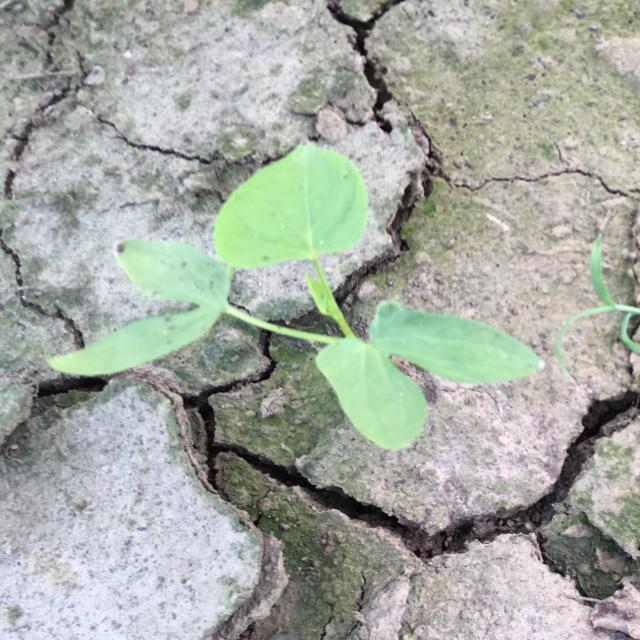MorningGlory: (49, 139, 544, 451)
